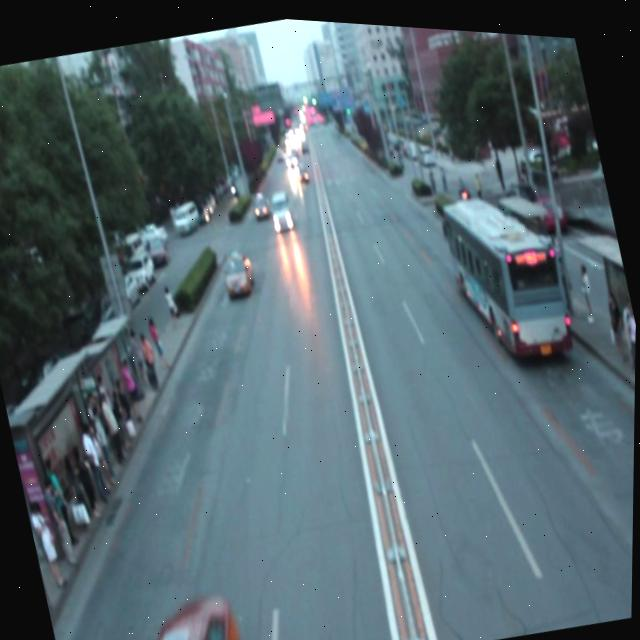car: (125, 575, 253, 640), (215, 234, 261, 302), (243, 177, 273, 225)
truck: (265, 181, 300, 235)
van: (434, 169, 581, 378)
